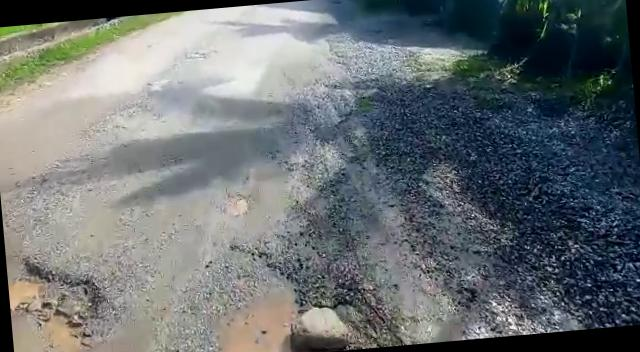pothole: (8, 252, 111, 352), (204, 284, 317, 352)
